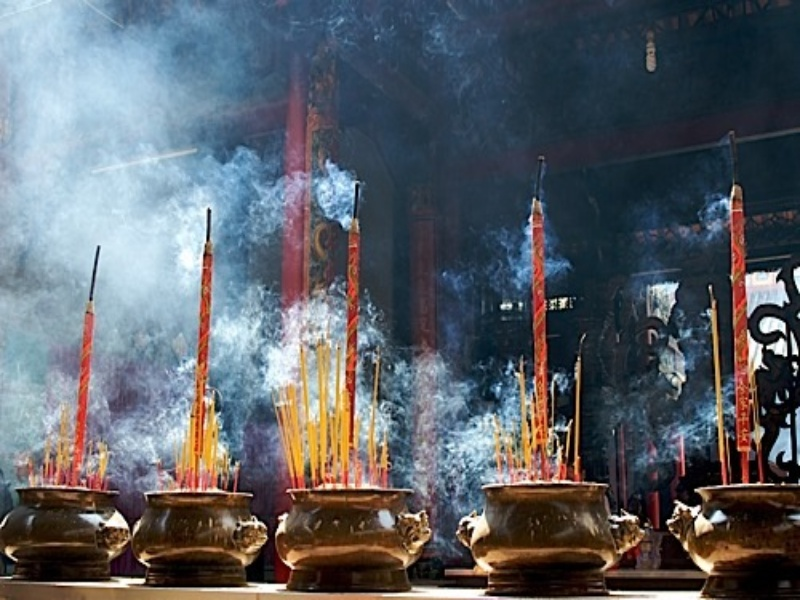smoke: (1, 1, 235, 446)
